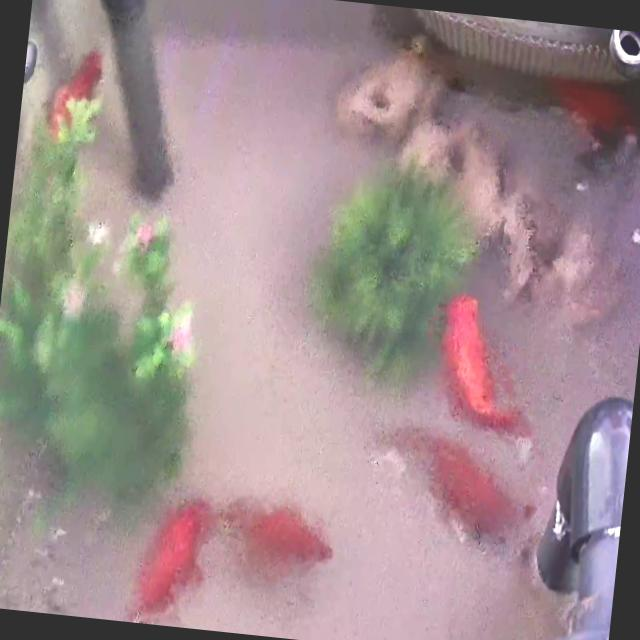fish: (383, 424, 538, 544), (429, 292, 534, 418), (129, 492, 212, 629), (226, 498, 339, 580), (543, 74, 640, 152), (46, 43, 107, 142)
